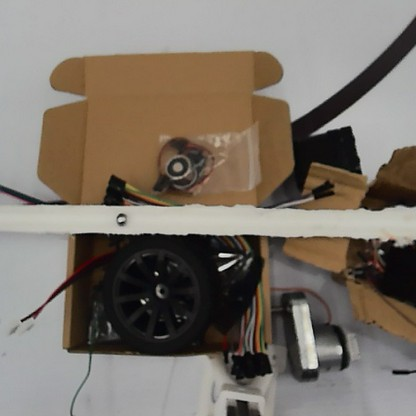ironball: (112, 210, 129, 226)
